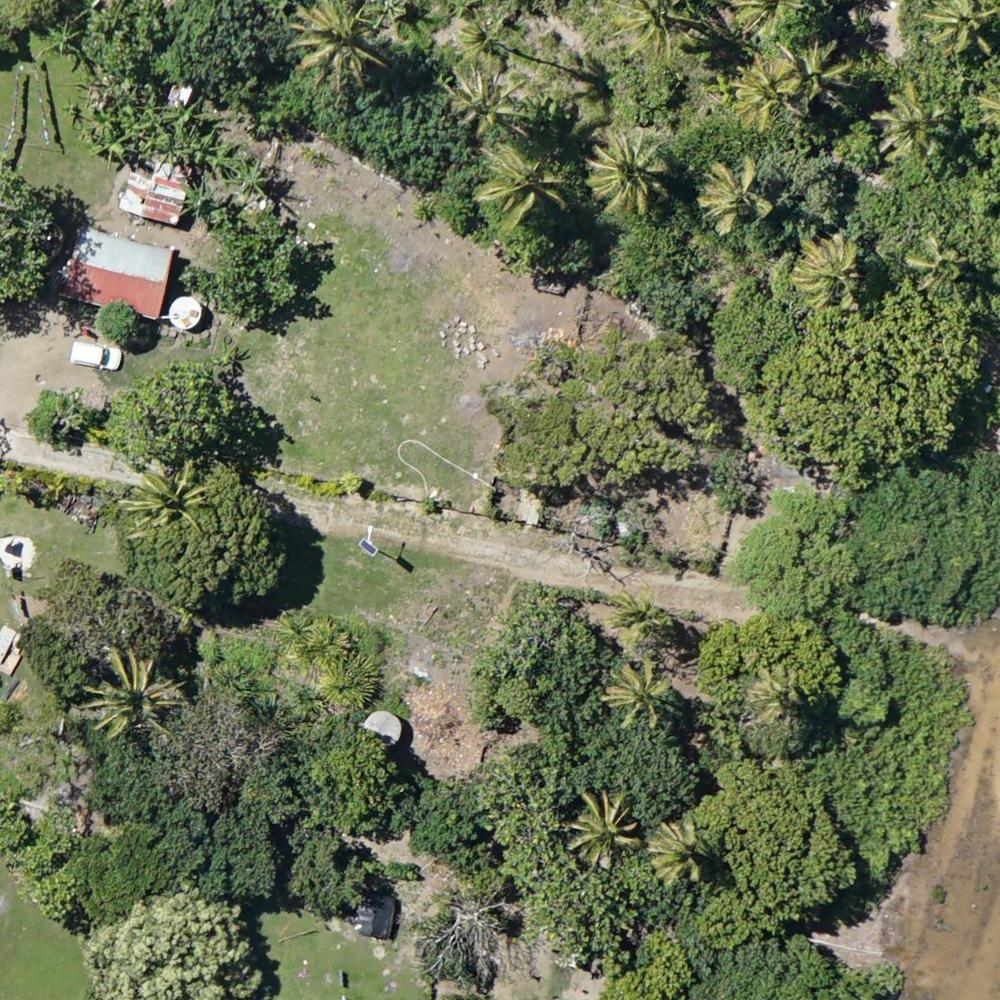Palm: (86, 644, 183, 738), (472, 144, 567, 224), (289, 2, 373, 82), (591, 127, 669, 213), (567, 782, 643, 867), (124, 466, 202, 539), (703, 159, 778, 234), (873, 85, 949, 158), (799, 232, 865, 308), (735, 56, 802, 126), (921, 1, 996, 60), (451, 67, 518, 132), (651, 816, 715, 883), (606, 662, 675, 724), (793, 43, 851, 106), (746, 666, 804, 725), (907, 235, 964, 292), (458, 14, 505, 65)
